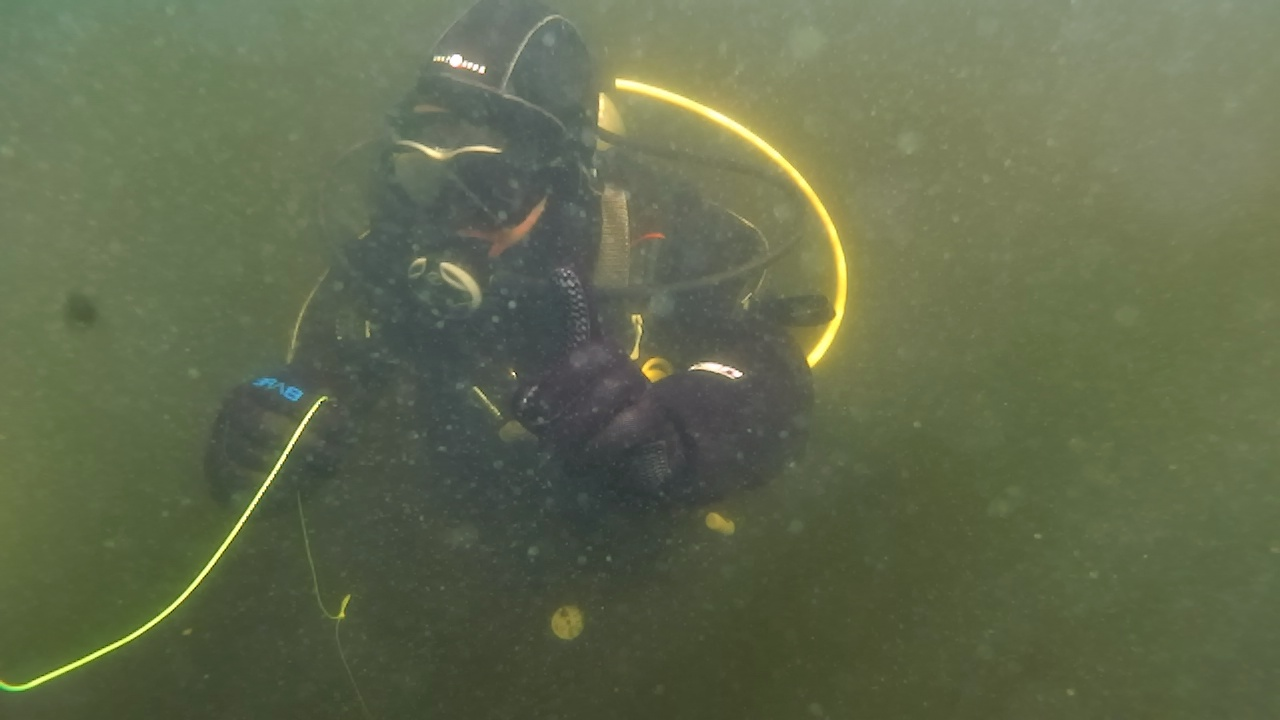Diver: (188, 10, 856, 534)
Hand: (506, 256, 696, 508), (188, 372, 366, 520)
Head: (380, 10, 606, 344)
